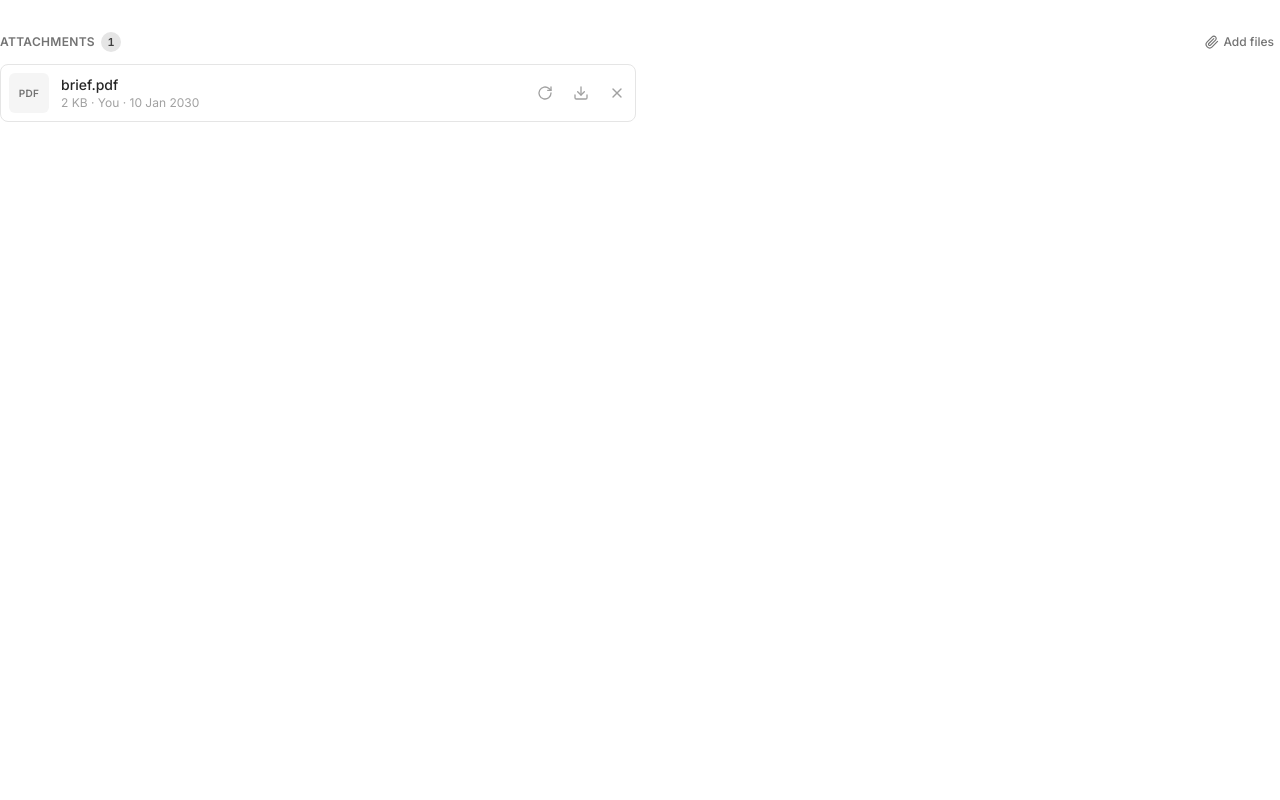
Test: TaskAttachments › deletes your own file after asking
Click the button named "Delete brief.pdf" at [617, 93], box x1=605 y1=81 x2=629 y2=105
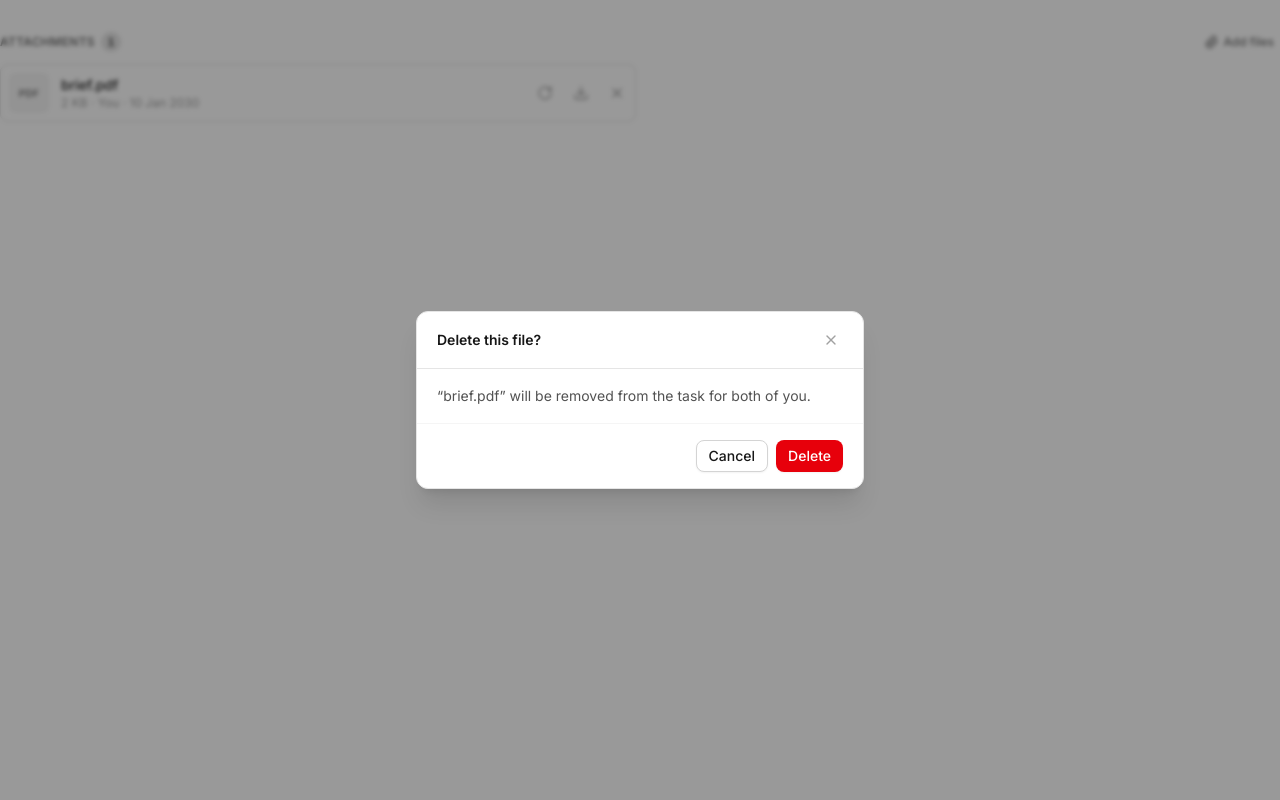
Click the button "Delete" at [810, 456], box x1=776 y1=440 x2=843 y2=472
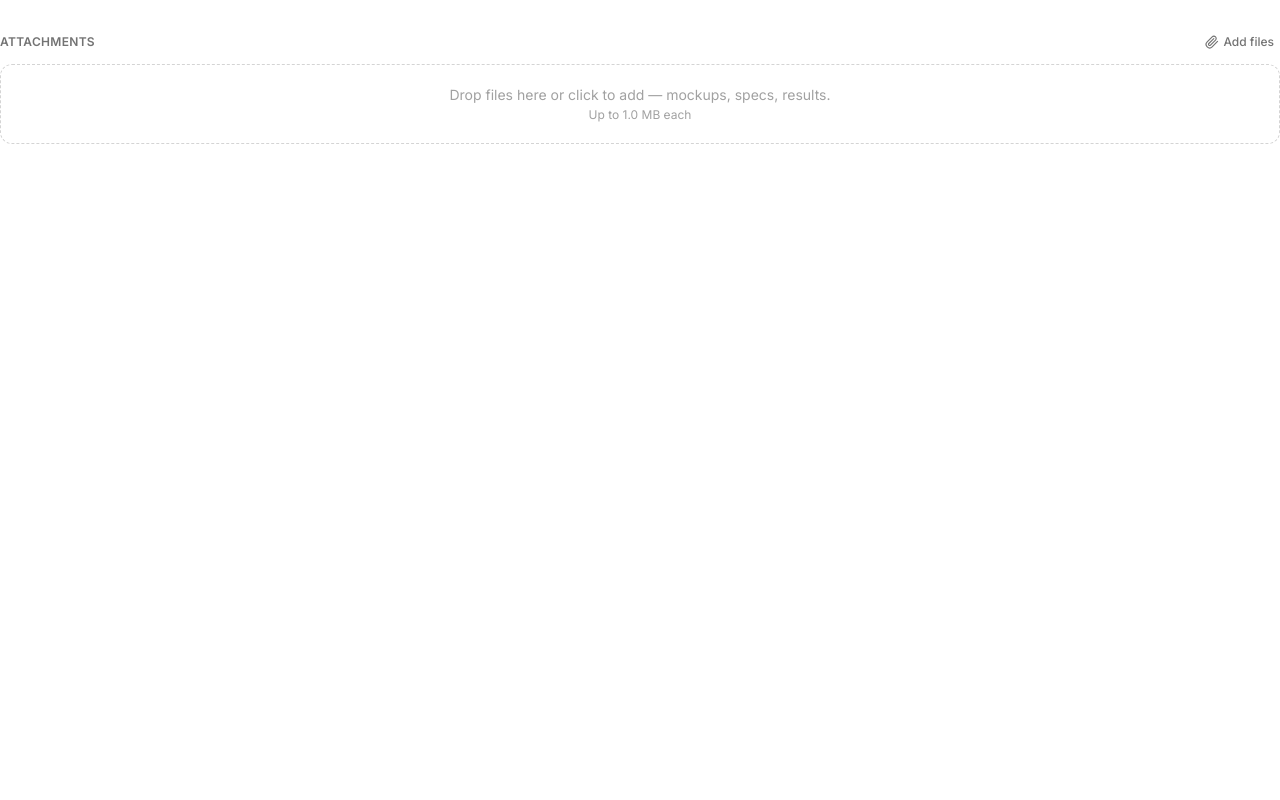
Check: the text "brief.pdf" is gone
